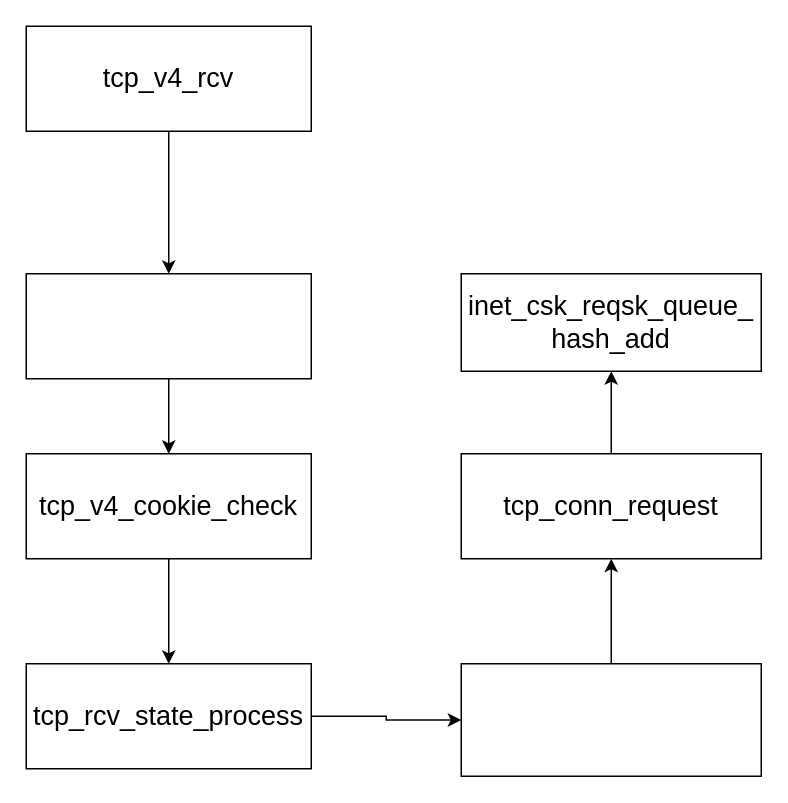
Image size: 788x803. Some labels were removed from this diagram. Here are the shapes that lost their labels. From the top down, the centre of each, then its label:
At point 168,325: "tcp_v4_do_rcv".
At point 610,719: "tcp_v4_conn_request".
